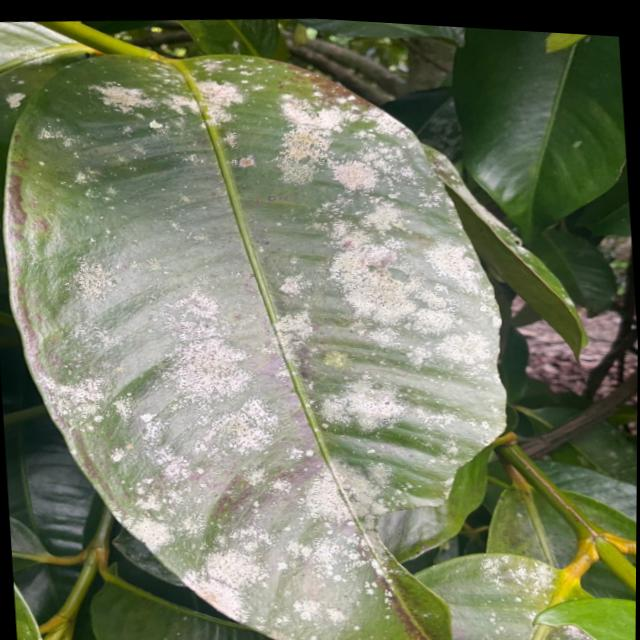Leaf Spot: (102, 445, 461, 640), (308, 200, 558, 366), (298, 344, 564, 495), (130, 267, 287, 465), (269, 63, 453, 220), (8, 242, 123, 462), (87, 39, 282, 142), (480, 535, 623, 640), (0, 65, 87, 154)
